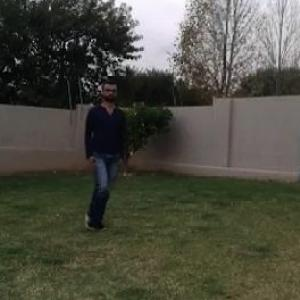follow: (84, 74, 122, 223)
